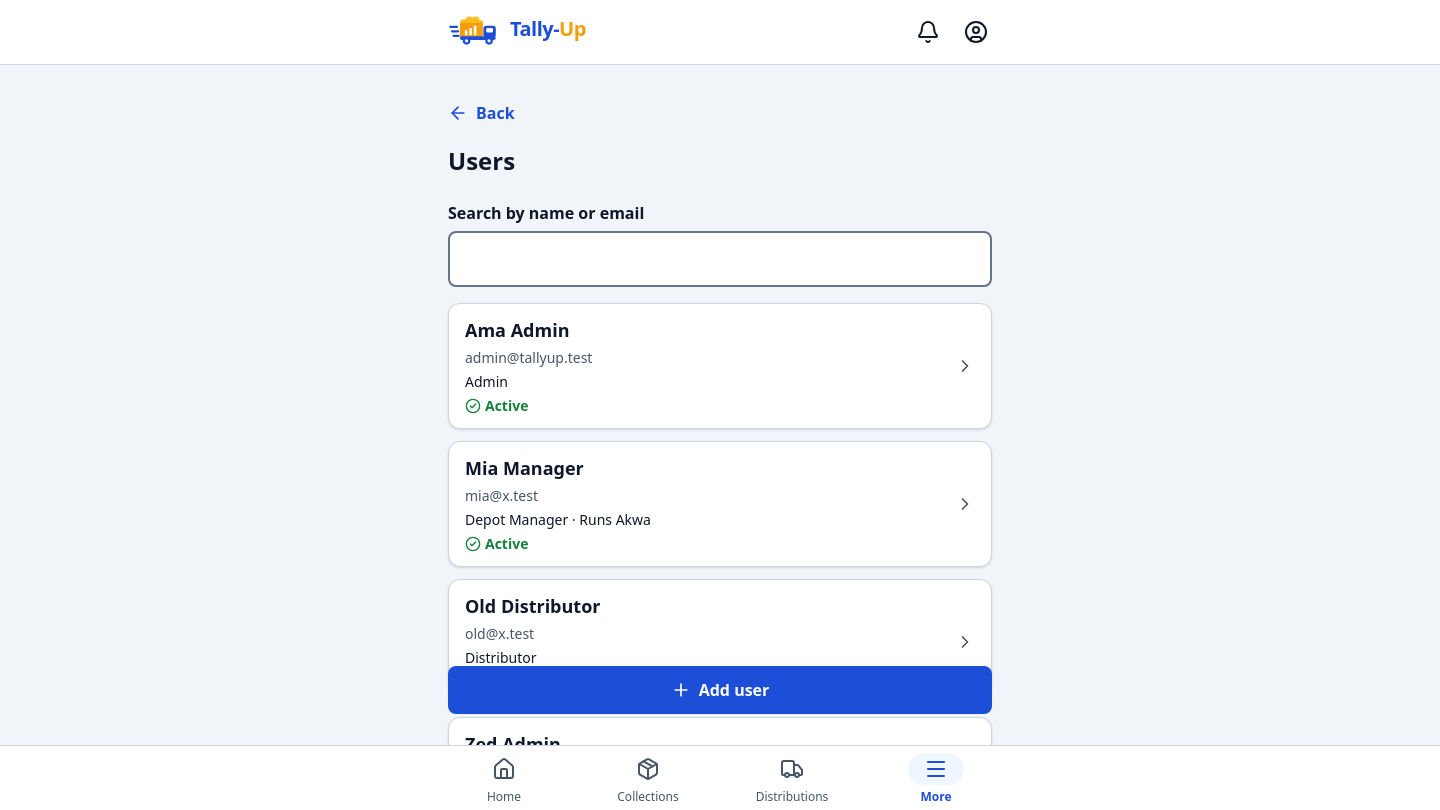
Test: Users list › filters by name or email, ignoring case
This screenshot has width=1440, height=810.
Type "OLD@" into the field labelled "Search by name or email" at [720, 259], box [448, 231, 992, 287]
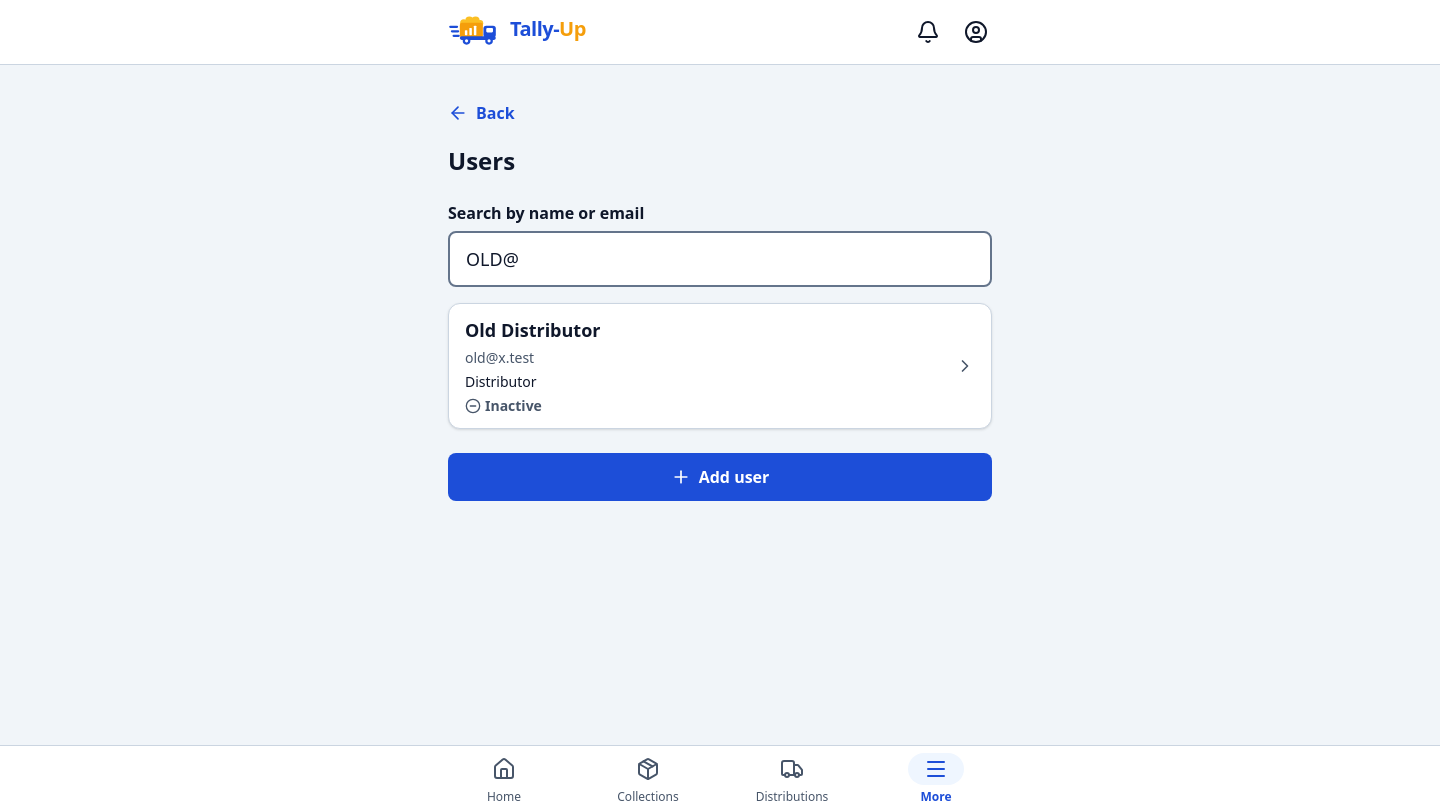
Expected: the link "Old Distributor old@x.test Distributor Inactive" is shown, [448, 303, 992, 429]
Expected: the link "Mia Manager" is gone
Replace the text in the field labelled "Search by name or email" with "nobody" at [720, 259], box [448, 231, 992, 287]
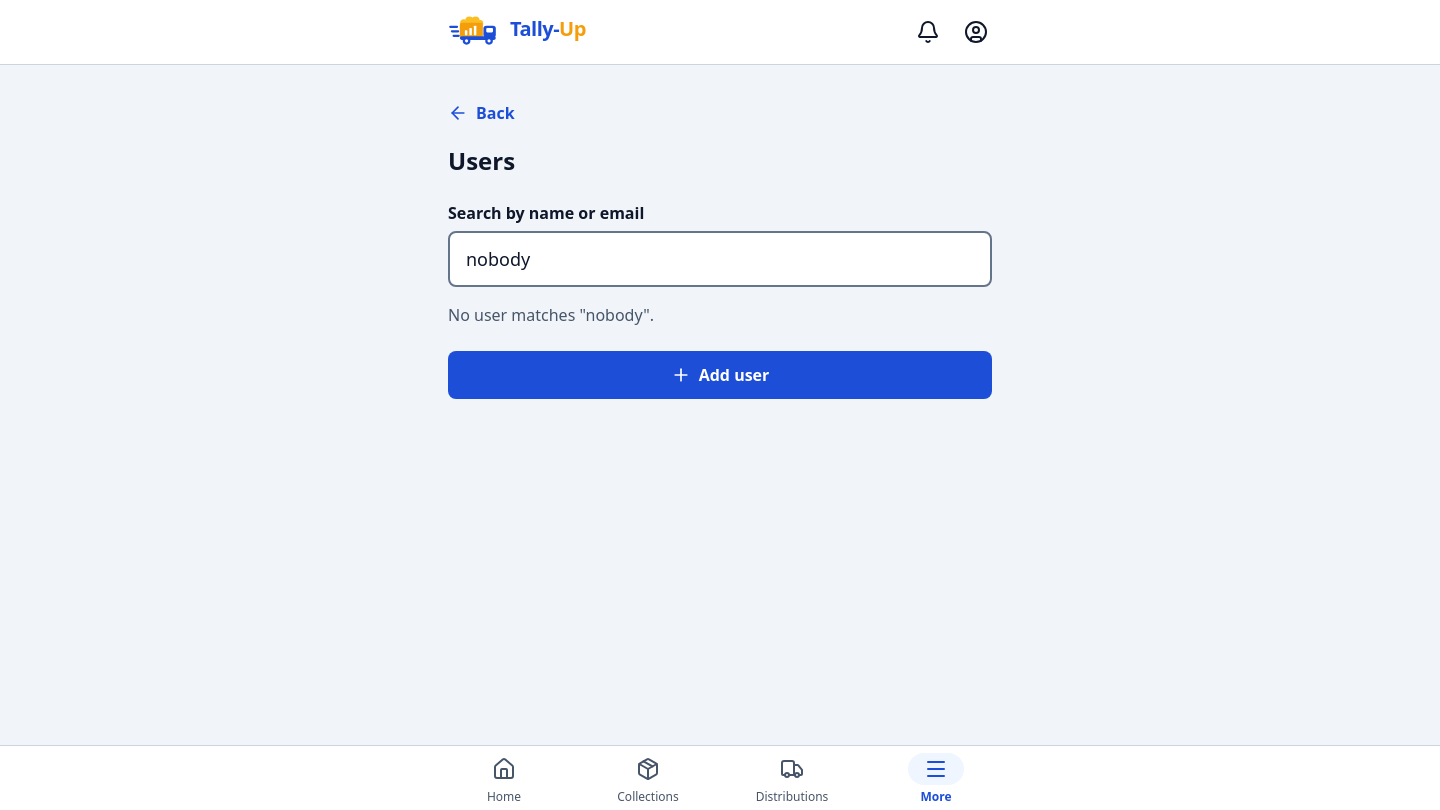
Expected: the text "No user matches \"nobody\"." is shown, [448, 304, 654, 326]
